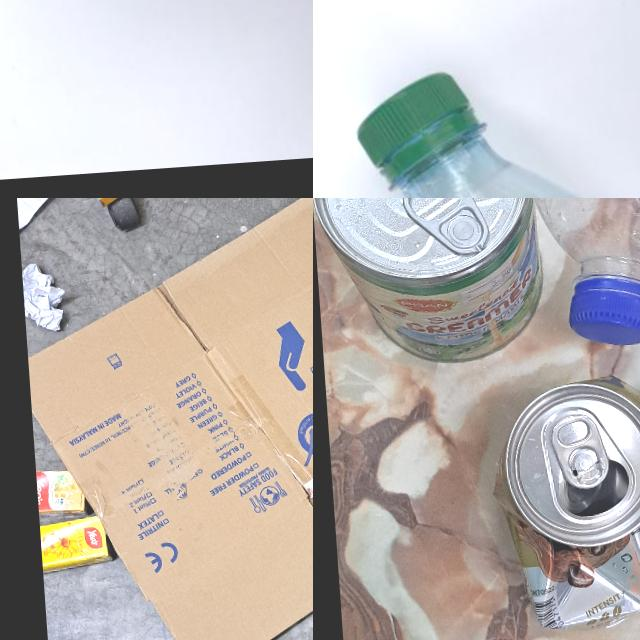aba de lata: (401, 198, 490, 259), (550, 412, 611, 492)
caixinha: (40, 514, 110, 574), (36, 465, 84, 515)
garrafa plástica: (392, 118, 640, 198)
lata: (313, 198, 549, 373), (486, 370, 640, 635)
papel: (22, 260, 70, 332), (12, 198, 71, 241)
papelão: (16, 198, 313, 640)
tampa plástica: (351, 64, 492, 190), (565, 276, 640, 349)
